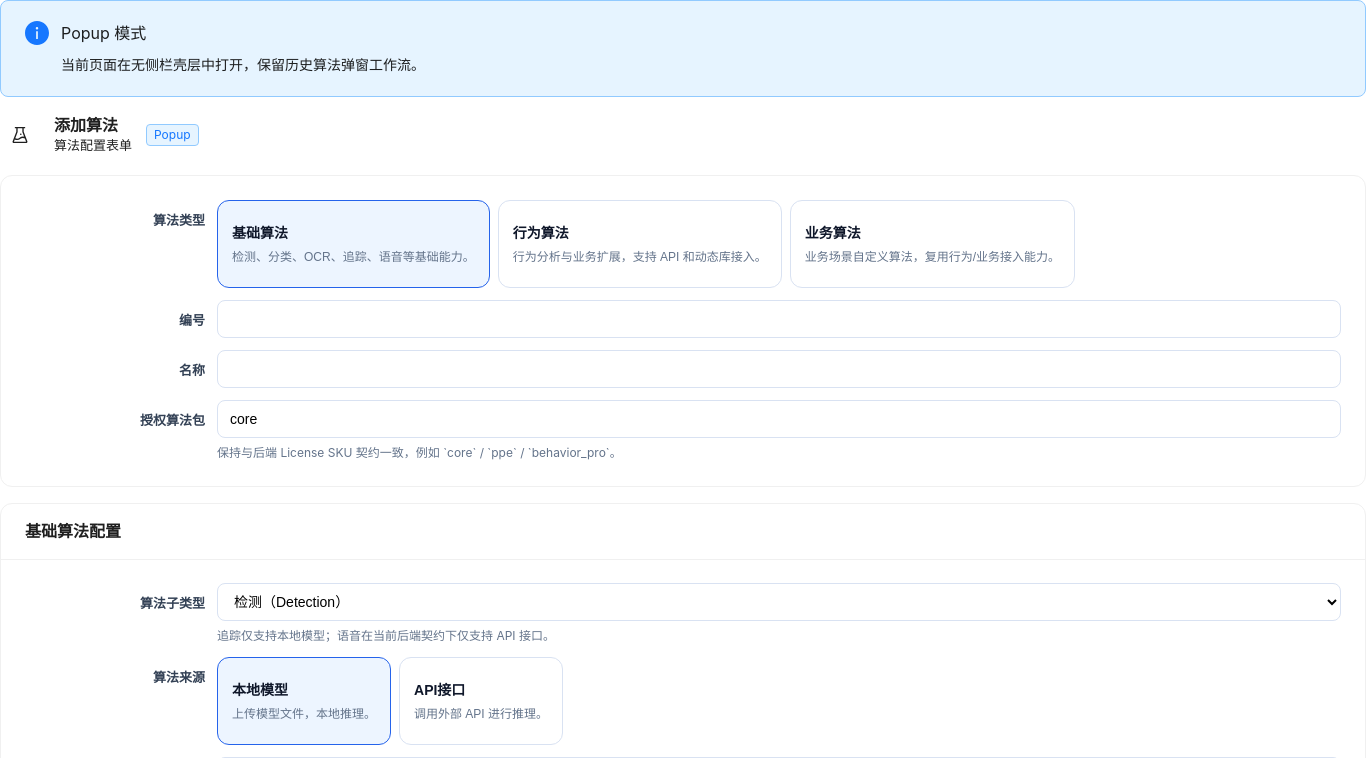
Test: AlgorithmFormPage › hydrates add form from the legacy template and forces api source for speech subtype
The image size is (1366, 758).
Check: the heading "添加算法" is shown, box 54,115 -> 118,135
Check: the field labelled "编号" is empty, box 217,300 -> 1341,338
Select "语音/ASR（Speech / ASR）" in the dropdown labelled "算法子类型". click: [779, 602]
box: 217,583 -> 1341,621
(page scrolled)
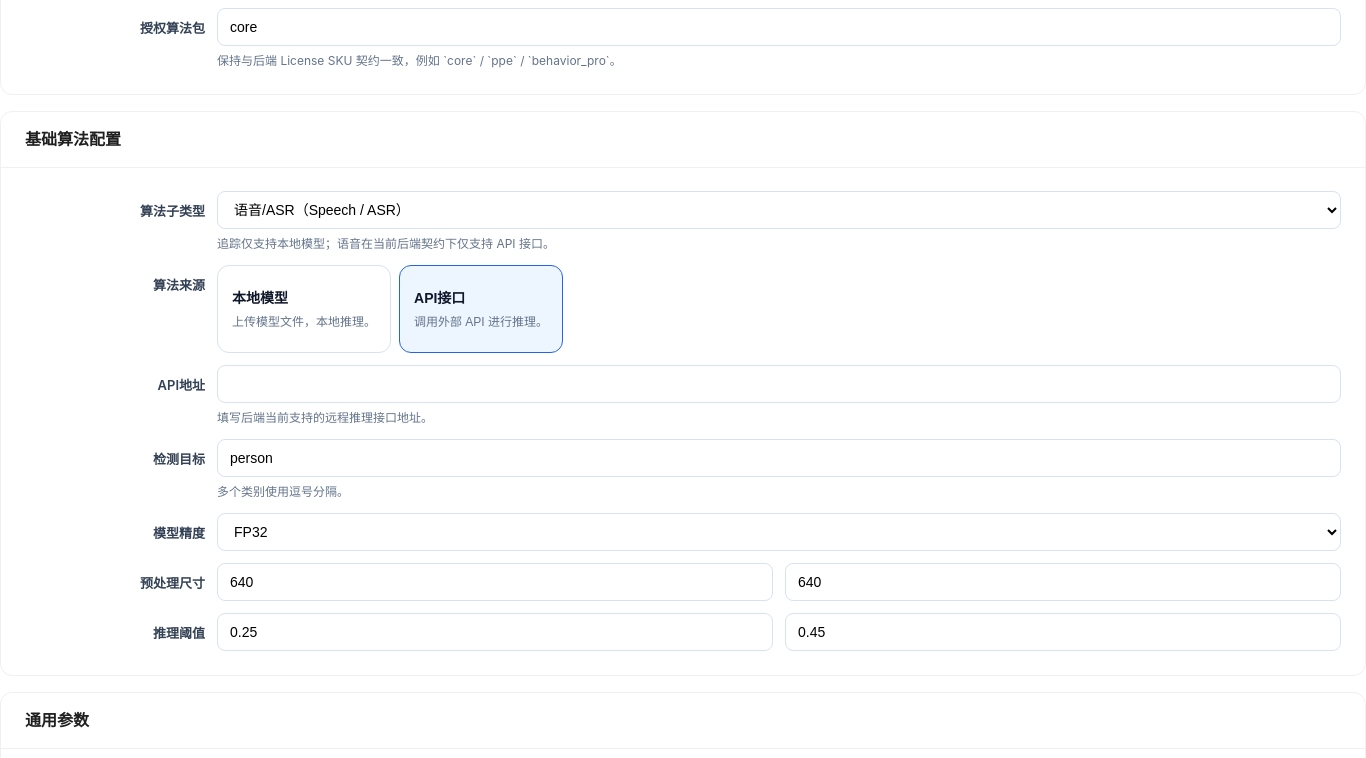
Check: the field labelled "API地址" is shown, box 217,365 -> 1341,403
